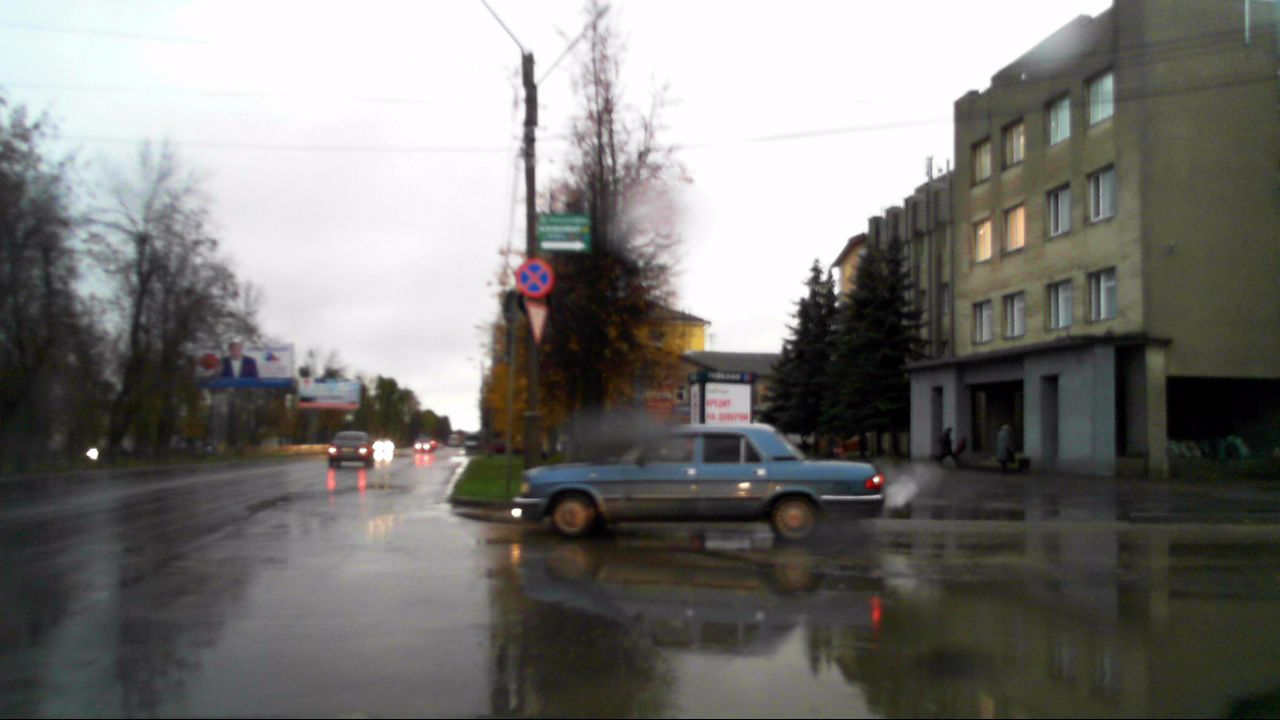No Parking: (515, 258, 554, 298)
